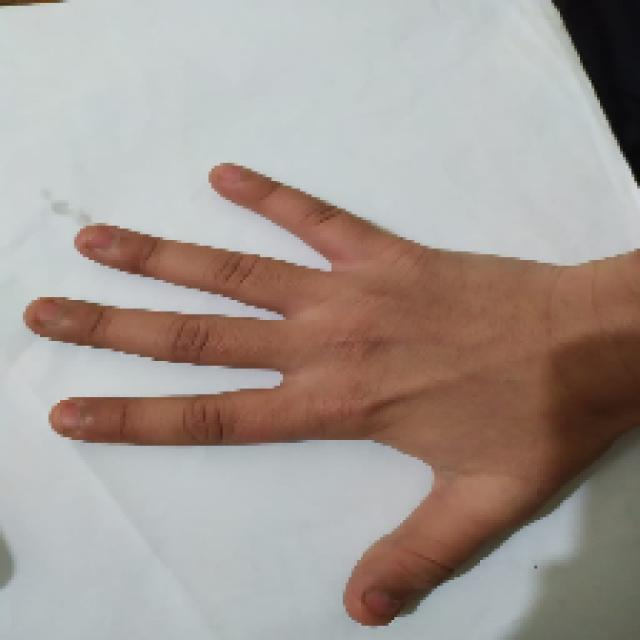Nail: (362, 589, 401, 623), (56, 400, 80, 428), (89, 227, 113, 248), (34, 301, 59, 321), (216, 163, 240, 182)
